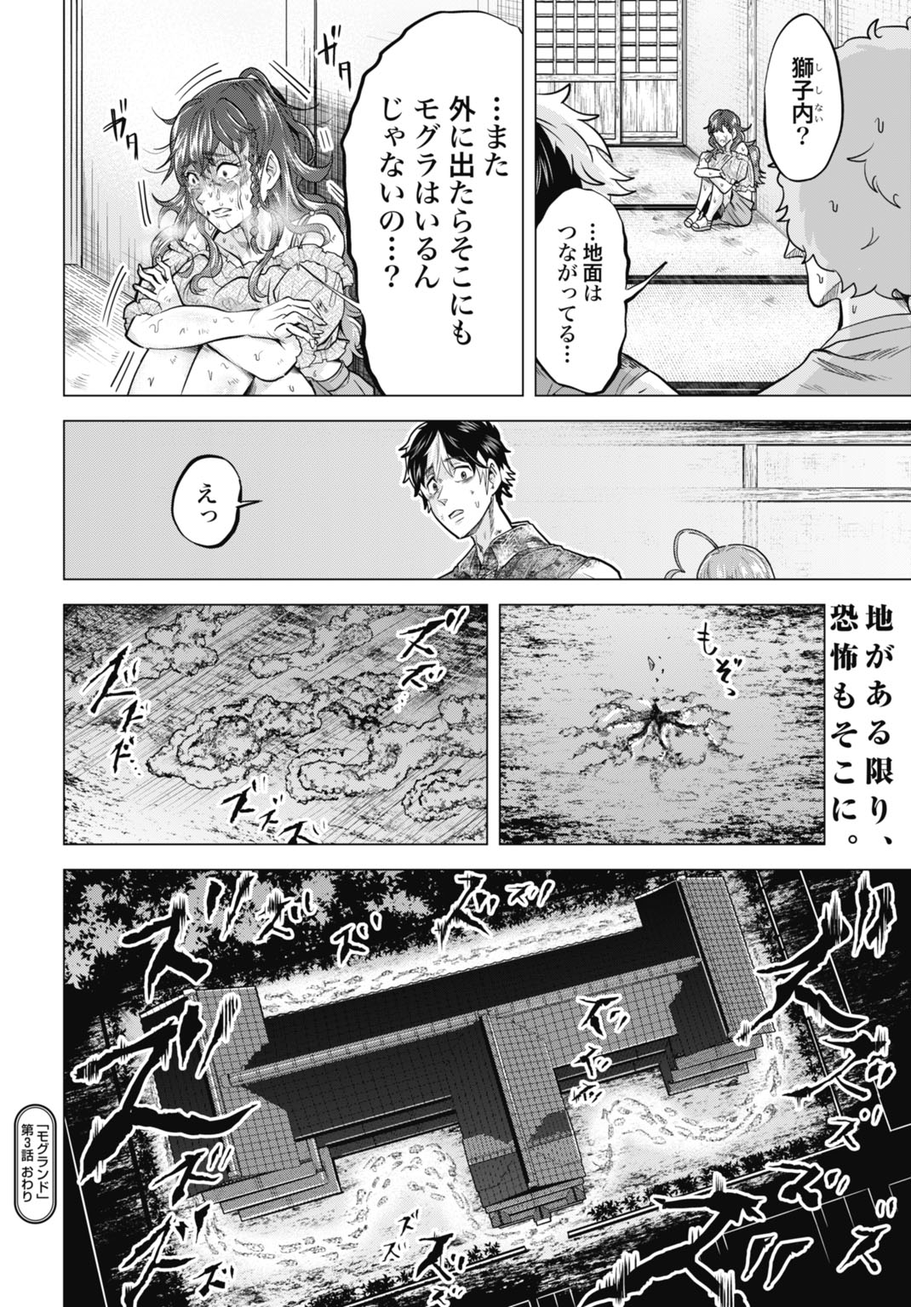bubbles: (339, 8, 526, 397), (536, 181, 655, 397), (761, 8, 852, 186), (166, 448, 267, 557)
